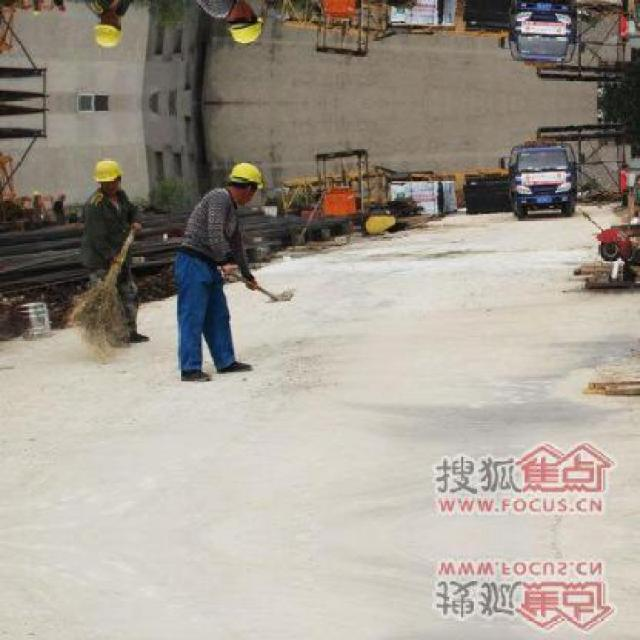helmet: (225, 158, 264, 202), (225, 1, 264, 45), (91, 155, 124, 193), (91, 10, 124, 48)
